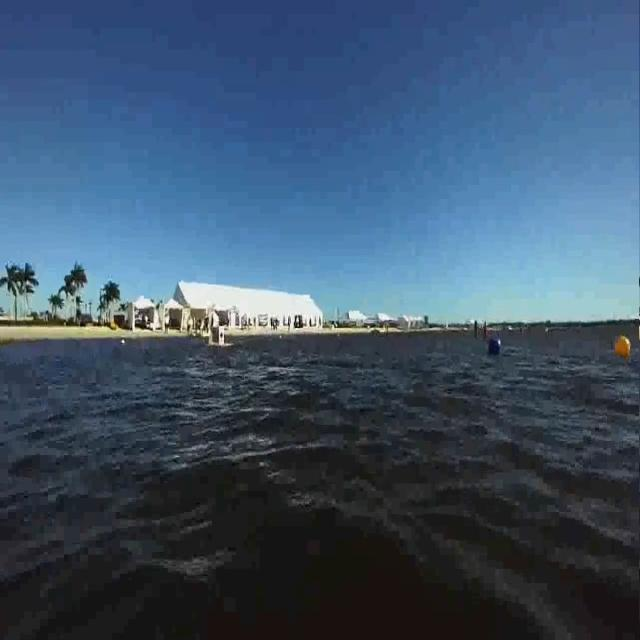blue-buoy: (487, 336, 502, 358)
yellow-buoy: (616, 335, 632, 360)
